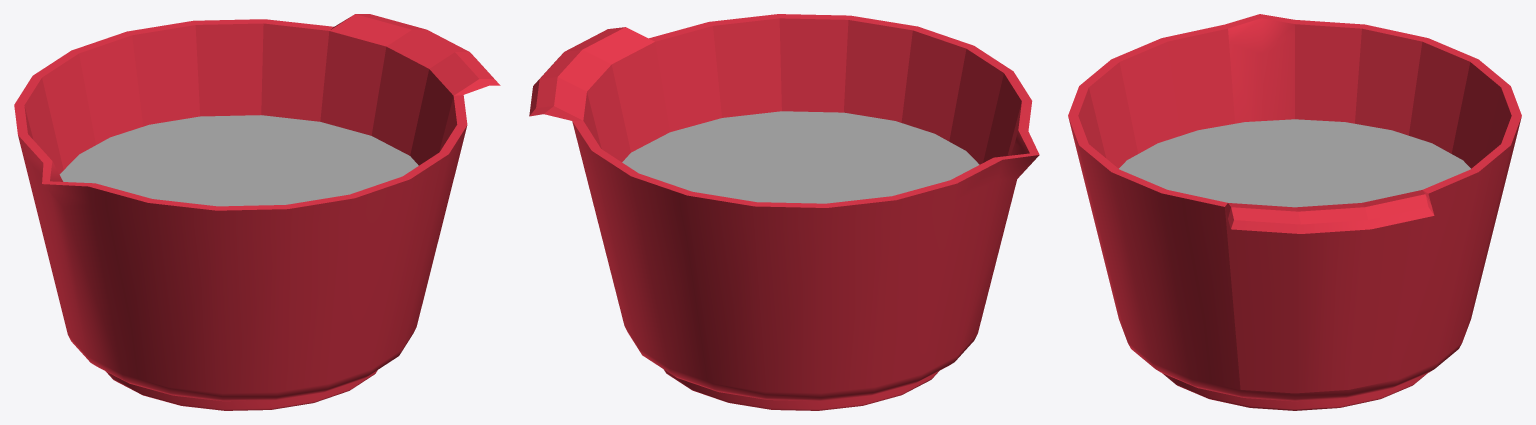
Rendered from Bowl3.fbx.
The picture shows the model from 3 angles, left to right: view 1: azimuth 30°, elevation 25°; view 2: azimuth 150°, elevation 25°; view 3: azimuth 270°, elevation 25°; orthographic projection.
Visible parts, largest first — view 1: Bowl3; view 2: Bowl3; view 3: Bowl3.
Part boxes in pixels (x1=…): Bowl3: x1=14, y1=14, x2=500, y2=410; Bowl3: x1=529, y1=14, x2=1039, y2=410; Bowl3: x1=1068, y1=14, x2=1521, y2=410.
Size of the model in its own units: 0.4126 by 0.2119 by 0.3588.
